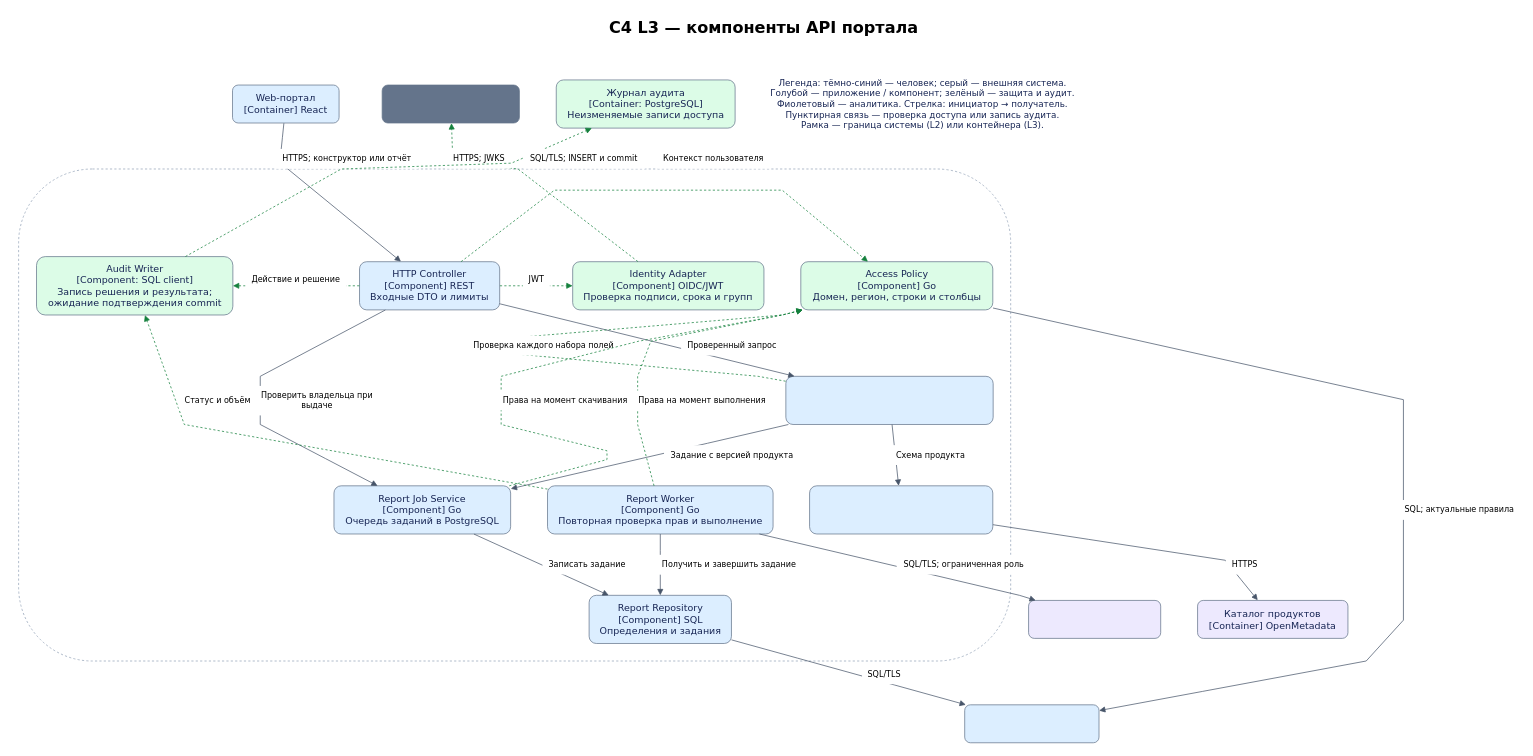
Image size: 1533x756. Some labels were removed from this diagram. Each missing label, with the box of its shape:
API портала — граница контейнера Go: (18, 168, 1011, 661)
IdP [Software System] OIDC: (381, 84, 519, 123)
Product Catalog Adapter [Component] HTTPS client Версии и доступность продукта: (809, 485, 993, 534)
Query Planner [Component] Go Разрешённая семантическая модель: (785, 376, 993, 424)
Доменные витрины [Container] ClickHouse: (1028, 600, 1161, 638)
Метаданные портала [Container] PostgreSQL: (964, 704, 1099, 743)
